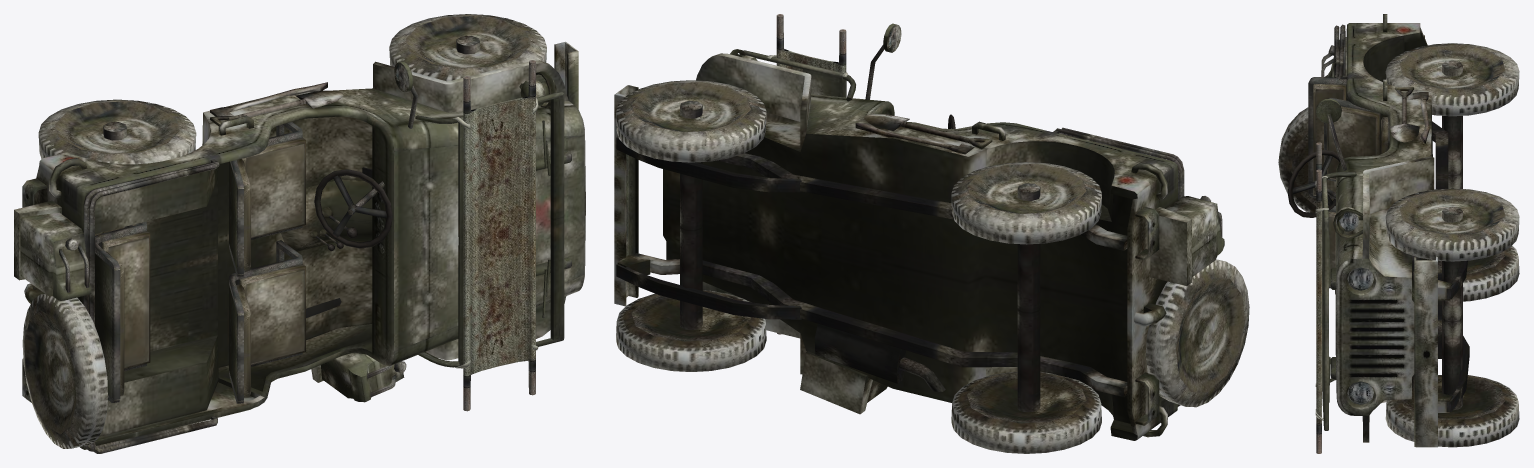
Rendered from vehicle_russia_jeep_cot.glb.
The picture shows the model from 3 angles, left to right: view 1: azimuth 30°, elevation 25°; view 2: azimuth 150°, elevation 25°; view 3: azimuth 270°, elevation 25°; orthographic projection. The views are drawn at different scales.
Size of the model in its own units: 145 by 85.62 by 61.88.
2 materials, 2 textured.
